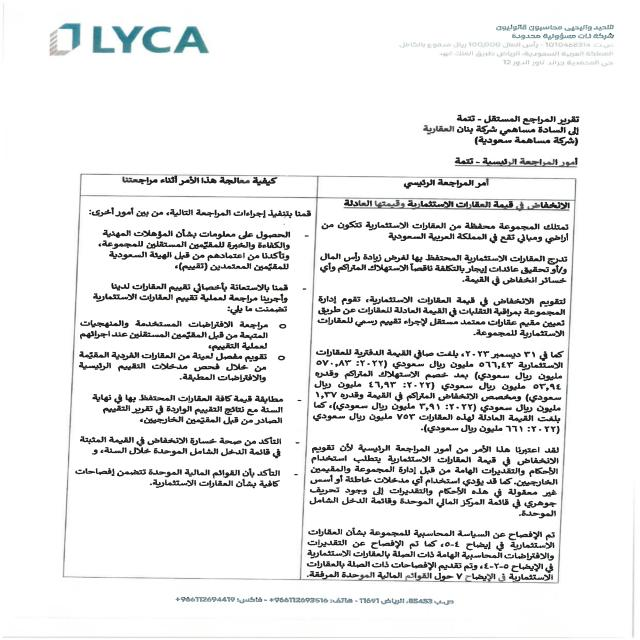auditor_report: (441, 155, 581, 173), (448, 110, 593, 124)
